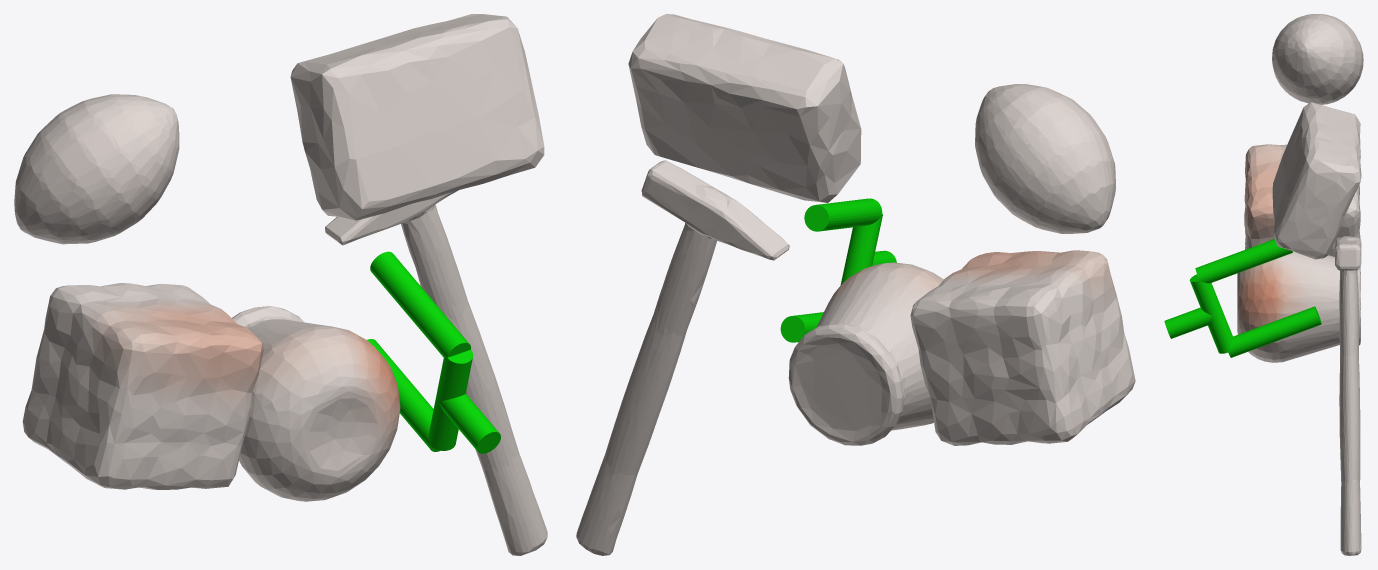
The model's file is round_000_trial_001.obj.
The picture shows the model from 3 angles, left to right: view 1: azimuth 30°, elevation 25°; view 2: azimuth 150°, elevation 25°; view 3: azimuth 270°, elevation 25°; orthographic projection. The views are drawn at different scales.
Visible parts, largest first — view 1: geometry_0, geometry_1; view 2: geometry_0, geometry_1; view 3: geometry_0, geometry_1.
Boxes of the visible parts, x1,y1,x2,y2 form: geometry_0: [14, 14, 547, 555]; geometry_1: [367, 251, 500, 453]; geometry_0: [576, 14, 1135, 555]; geometry_1: [780, 198, 896, 342]; geometry_0: [1237, 14, 1363, 555]; geometry_1: [1164, 239, 1321, 357].
Bounding box in the file's own units: 0.2206 × 0.2235 × 0.1027.
